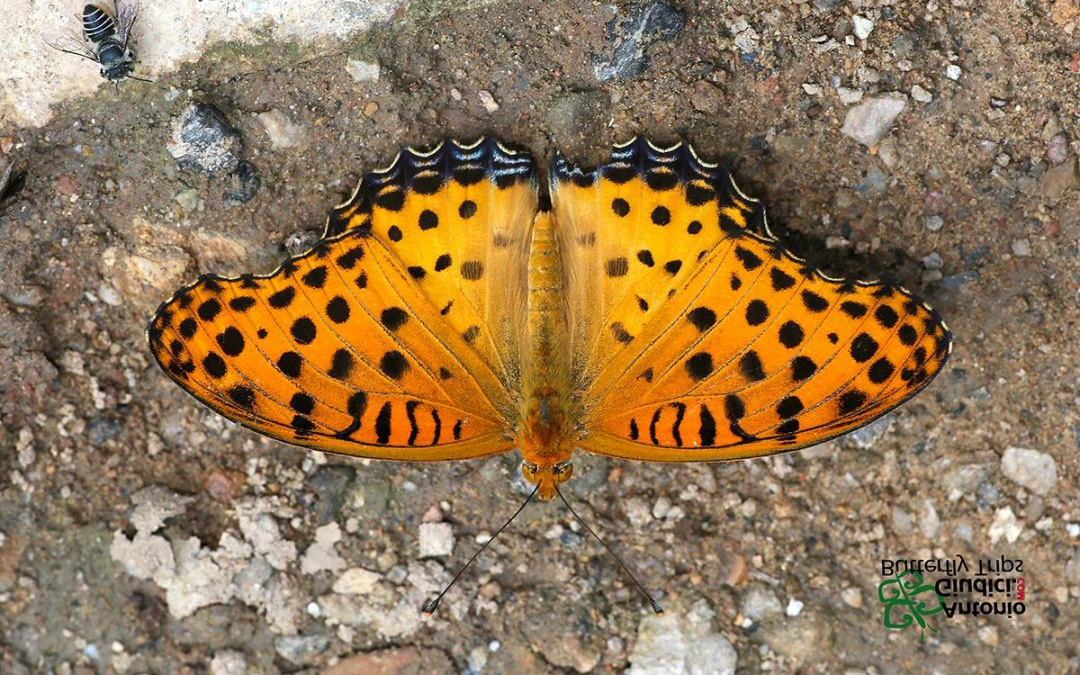Argyreus hyperbius: (126, 123, 950, 621)
butterfly: (124, 121, 948, 619)
